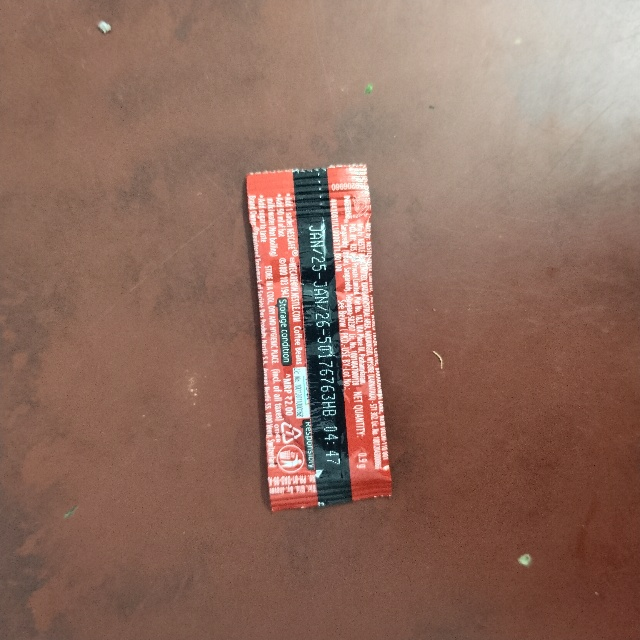Nescafe Coffee: (232, 167, 373, 513)
